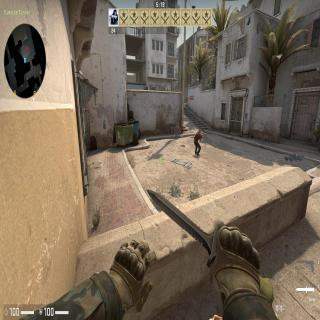T-Body: (194, 128, 202, 154)
T-Head: (198, 129, 202, 133)
